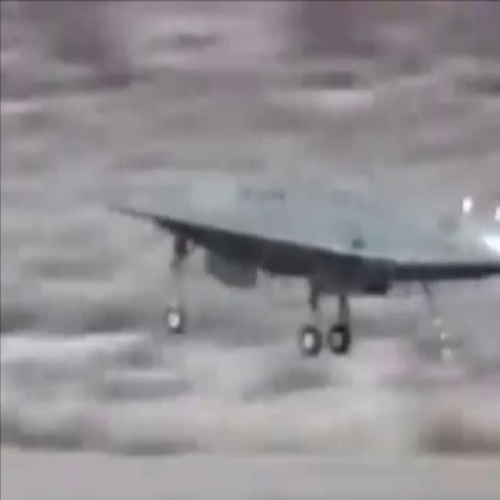uav1010: (104, 183, 497, 367)
